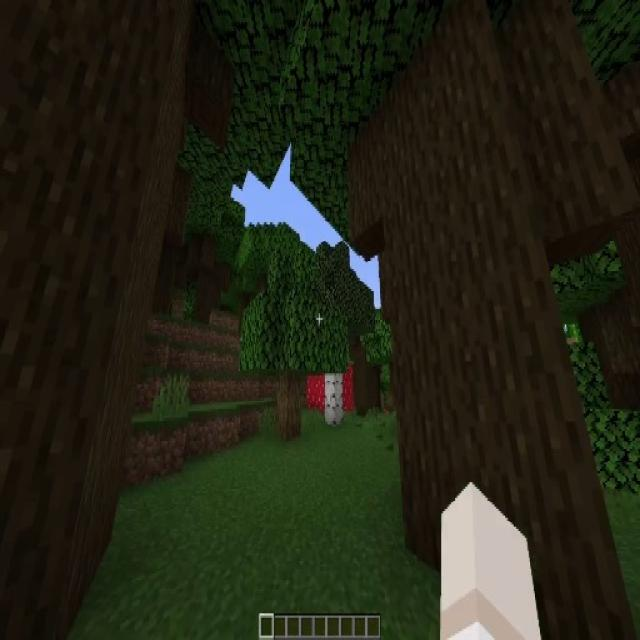birch: (294, 240, 375, 426)
birch_log: (325, 372, 343, 426)
dark_oak: (185, 200, 242, 322)
dark_oak_log: (0, 0, 182, 640), (391, 34, 579, 513), (189, 236, 222, 318)
oak: (241, 246, 342, 436)
oak_log: (280, 372, 300, 436)
